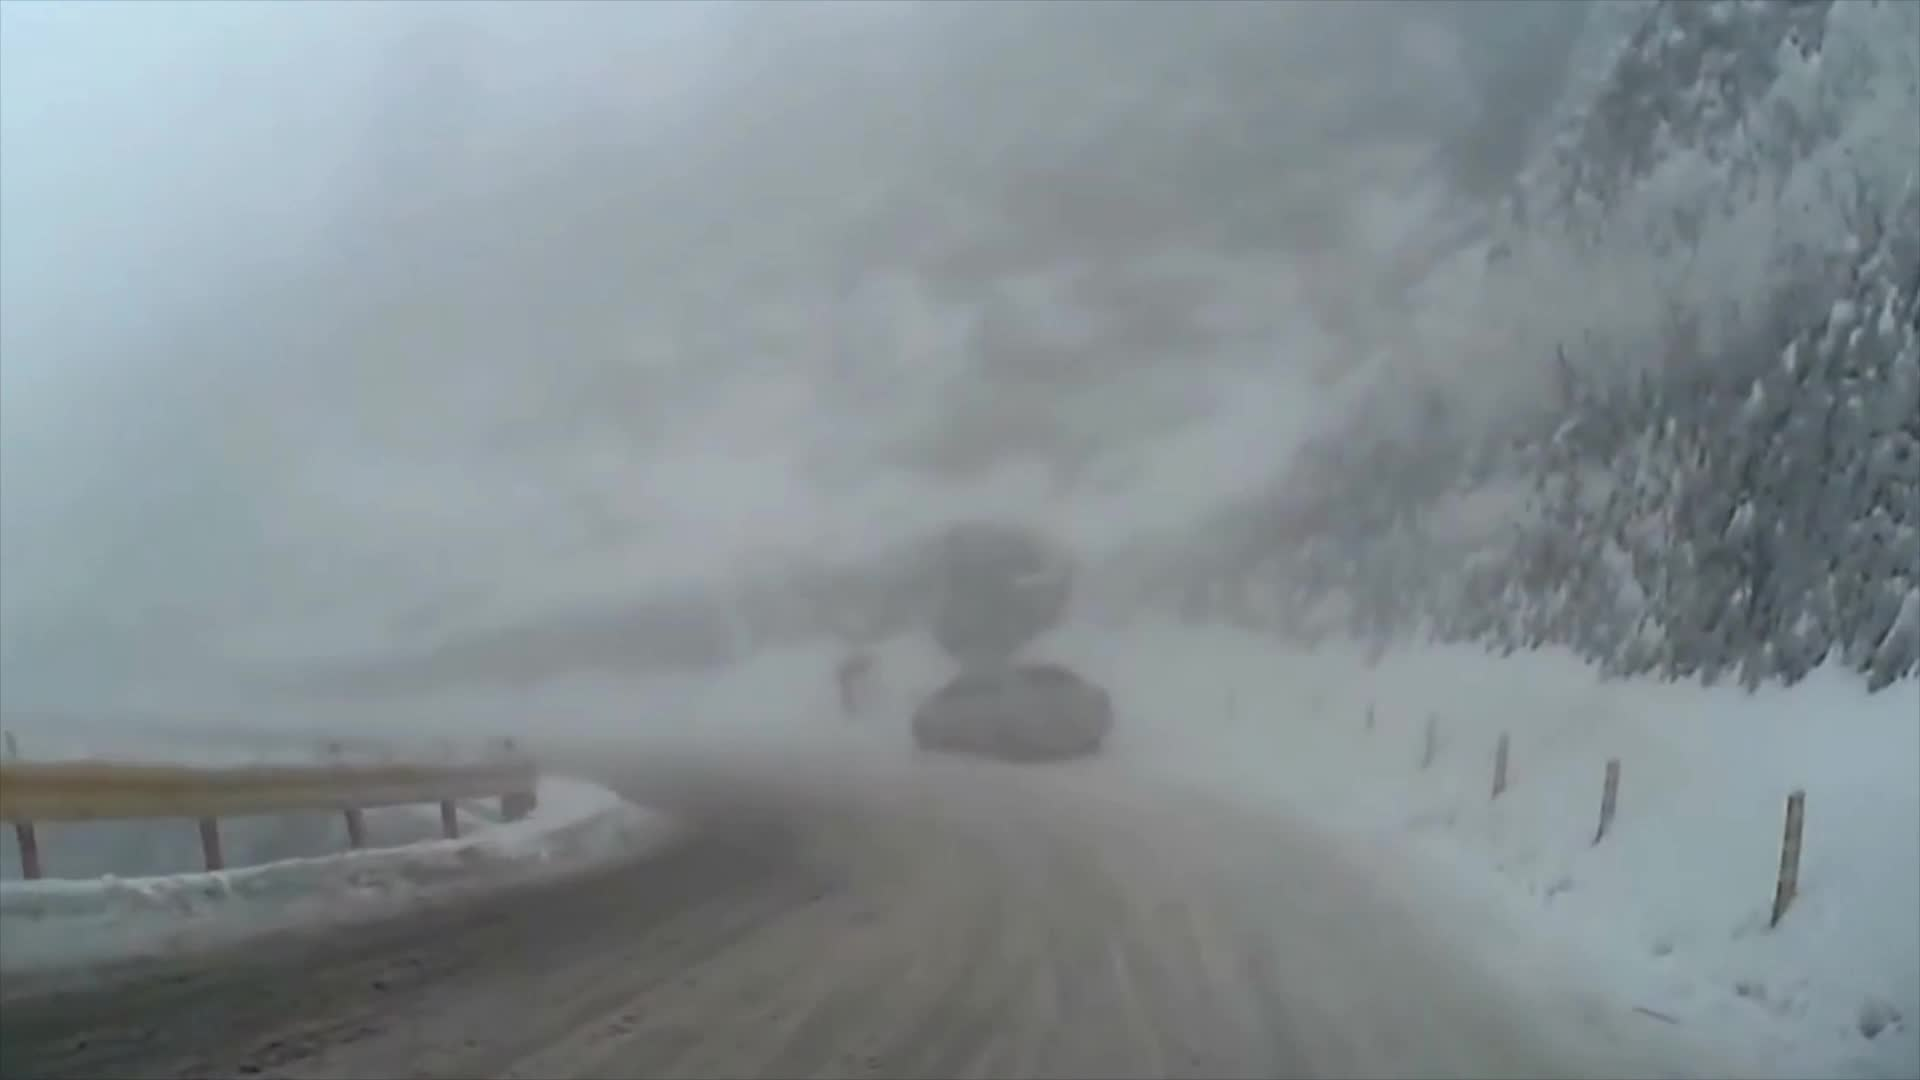pedestrian: (840, 655, 883, 721)
vehicle: (913, 662, 1113, 759)
